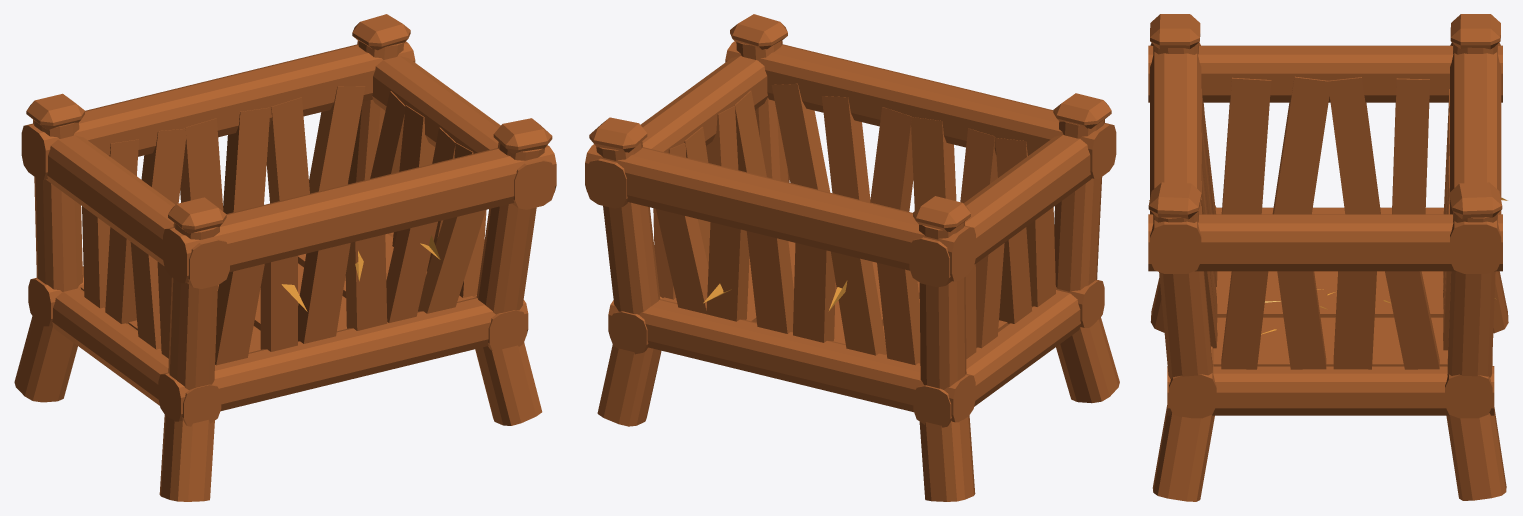
The model's file is empty.glb.
3 views of the same model, side by side, from view 1: azimuth 30°, elevation 25°; view 2: azimuth 150°, elevation 25°; view 3: azimuth 270°, elevation 25° (orthographic). The views are drawn at different scales.
Visible parts, largest first — view 1: frame, slats; view 2: frame, slats; view 3: frame, slats.
Boxes of the visible parts, x1,y1,x2,y2 form: frame: [14, 14, 556, 501]; slats: [82, 86, 486, 365]; frame: [585, 14, 1119, 501]; slats: [653, 83, 1055, 365]; frame: [1148, 14, 1508, 501]; slats: [1201, 76, 1450, 369].
Size of the model in its own units: 1.37 by 1.01 by 1.06.
